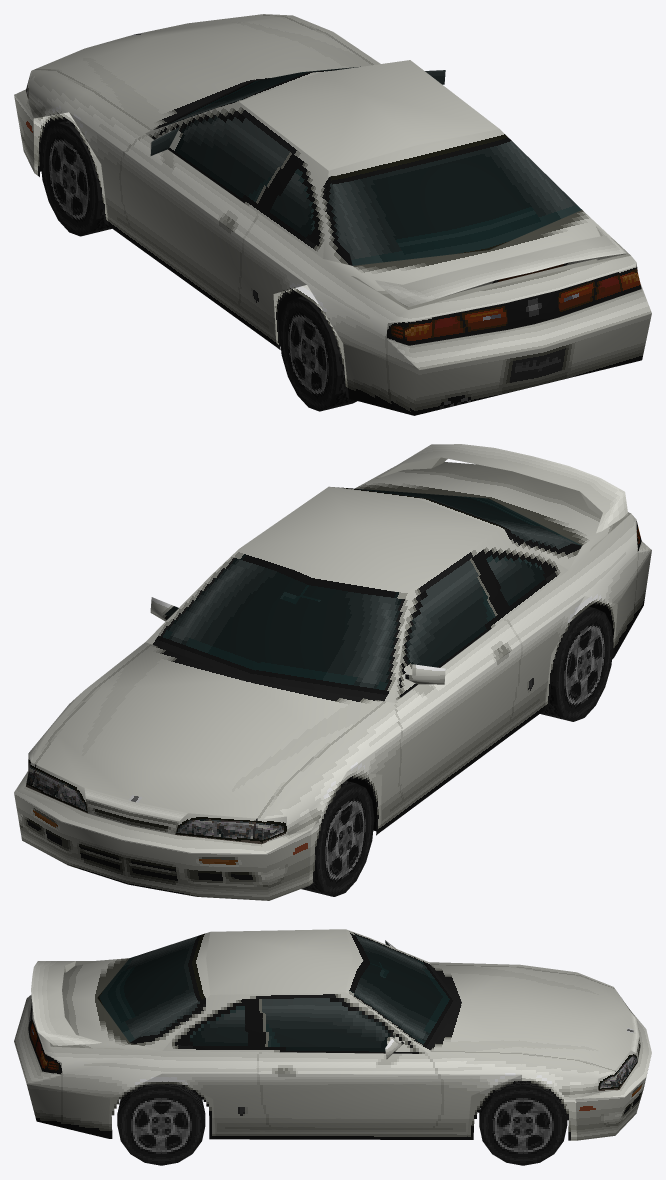
File: GT_SIMULATION__NQ14N.glb
The picture shows the model from 3 angles, top to bottom: view 1: azimuth 30°, elevation 25°; view 2: azimuth 150°, elevation 25°; view 3: azimuth 270°, elevation 25°; orthographic projection. The views are drawn at different scales.
Parts seen in each view (by area): view 1: Native body LOD0, Native wheel 2, Native wheel 0; view 2: Native body LOD0, Native wheel 2, Native wheel 0; view 3: Native body LOD0, Native wheel 3, Native wheel 1.
Part boxes in pixels (left/top/right/bottom): Native body LOD0: left=14, top=14, right=651, bottom=415; Native wheel 2: left=279, top=296, right=357, bottom=411; Native wheel 0: left=40, top=120, right=111, bottom=236; Native body LOD0: left=14, top=444, right=651, bottom=900; Native wheel 2: left=540, top=607, right=613, bottom=721; Native wheel 0: left=301, top=781, right=374, bottom=896; Native body LOD0: left=14, top=929, right=651, bottom=1140; Native wheel 3: left=117, top=1084, right=205, bottom=1165; Native wheel 1: left=479, top=1081, right=567, bottom=1165.
Bounding box in the file's own units: 1.82 × 1.28 × 4.52.
13 materials, 12 textured.
